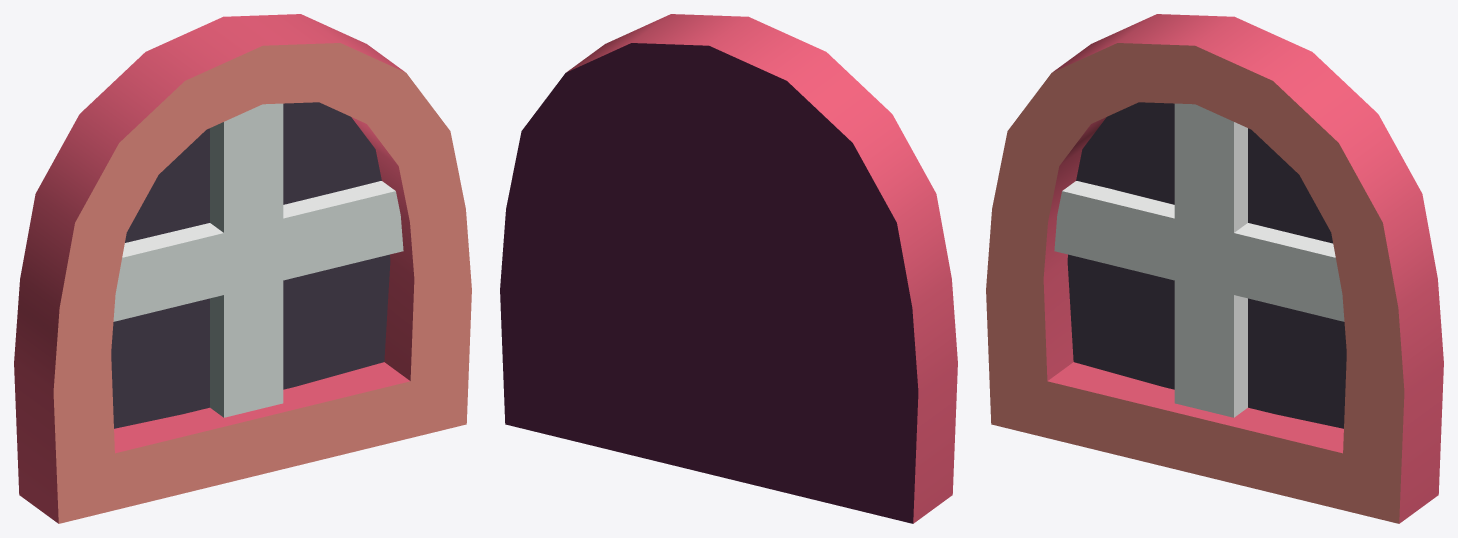
Rendered from SmallWindow01_Pink_White.glb.
The picture shows the model from 3 angles, left to right: view 1: azimuth 30°, elevation 25°; view 2: azimuth 150°, elevation 25°; view 3: azimuth 330°, elevation 25°; orthographic projection.
Visible parts, largest first — view 1: SmallWindow01_Pink_White; view 2: SmallWindow01_Pink_White; view 3: SmallWindow01_Pink_White.
Part boxes in pixels (x1,y1,x2,y2): SmallWindow01_Pink_White: (14,14,471,523); SmallWindow01_Pink_White: (500,14,957,523); SmallWindow01_Pink_White: (986,14,1443,523).
Size of the model in its own units: 0.5801 by 0.5676 by 0.0949.
1 material, 1 textured.
